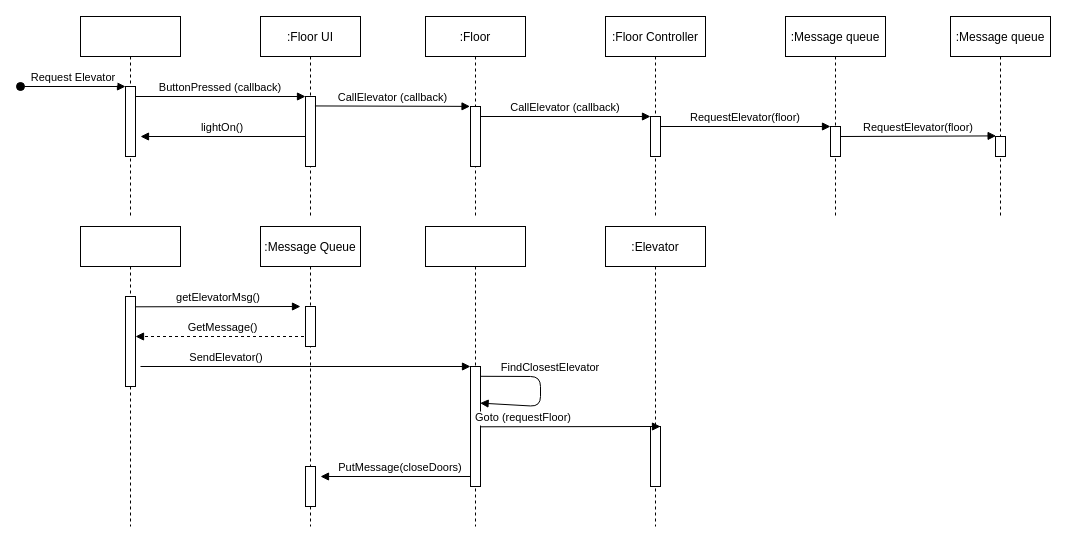
Some shapes in this 1067 by 543 pixel diagram are drawn without their labels. The centre of each missing label's shape, as x and y in pixels:
:Elevator Controller: point 475,376
:iLightButton: point 130,116
:SystemController: point 130,376
